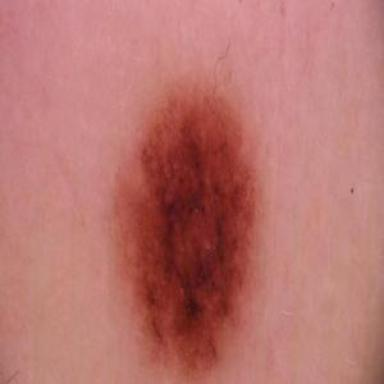Melanoma: (125, 84, 253, 379)
